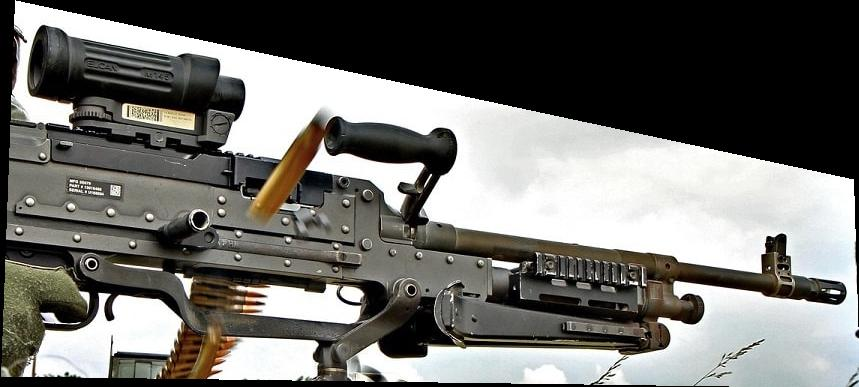gun: (1, 0, 859, 387)
